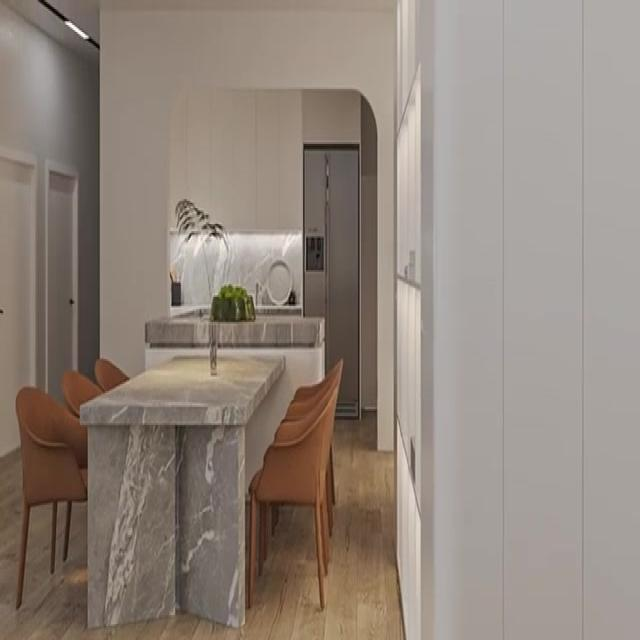obstacle: (79, 350, 285, 630), (302, 142, 360, 420)
